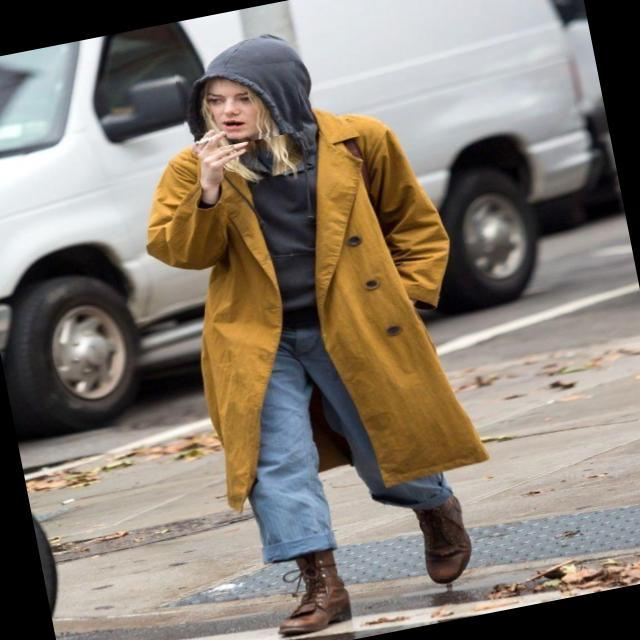cigarette: (176, 122, 237, 162)
